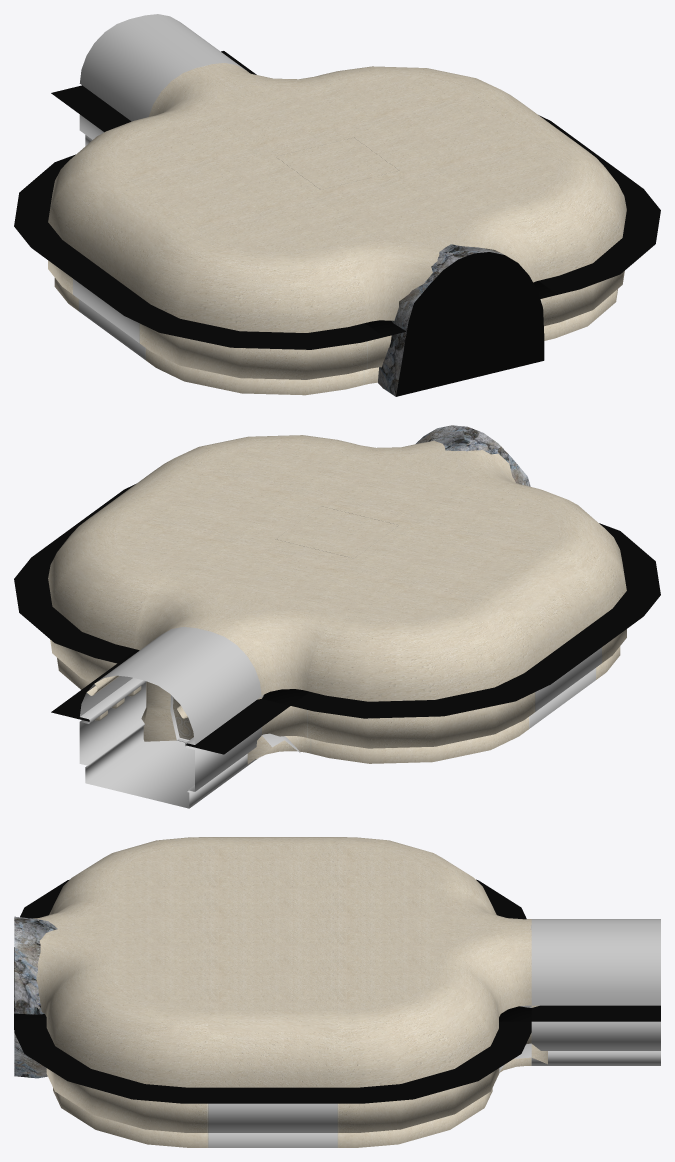
The model's file is dungeon_Doorway.fbx.
The picture shows the model from 3 angles, top to bottom: view 1: azimuth 30°, elevation 25°; view 2: azimuth 150°, elevation 25°; view 3: azimuth 270°, elevation 25°; orthographic projection. The views are drawn at different scales.
Visible parts, largest first — view 1: polySurface544, polySurface533, polySurface534; view 2: polySurface544, polySurface533, polySurface547, polySurface534; view 3: polySurface544, polySurface533, polySurface534.
Part boxes in pixels (x1,y1,x2,y2): polySurface544: [48, 14, 626, 332]; polySurface533: [14, 51, 660, 395]; polySurface534: [378, 244, 544, 396]; polySurface544: [48, 435, 626, 744]; polySurface533: [14, 484, 660, 808]; polySurface547: [141, 629, 300, 763]; polySurface534: [416, 425, 530, 486]; polySurface544: [33, 837, 660, 1087]; polySurface533: [14, 879, 660, 1147]; polySurface534: [14, 916, 57, 1078].
Bounding box in the file's own units: 270 × 62.01 × 300.
